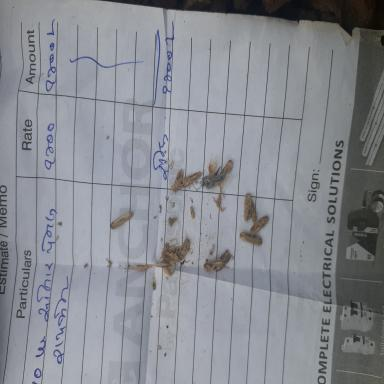pbw: (179, 169, 205, 190), (109, 211, 134, 230), (250, 215, 269, 238), (169, 168, 184, 194), (215, 249, 231, 272), (239, 230, 262, 246), (203, 258, 224, 274), (160, 248, 179, 262), (179, 235, 190, 257), (220, 160, 233, 175), (251, 200, 257, 222), (190, 205, 195, 219)
